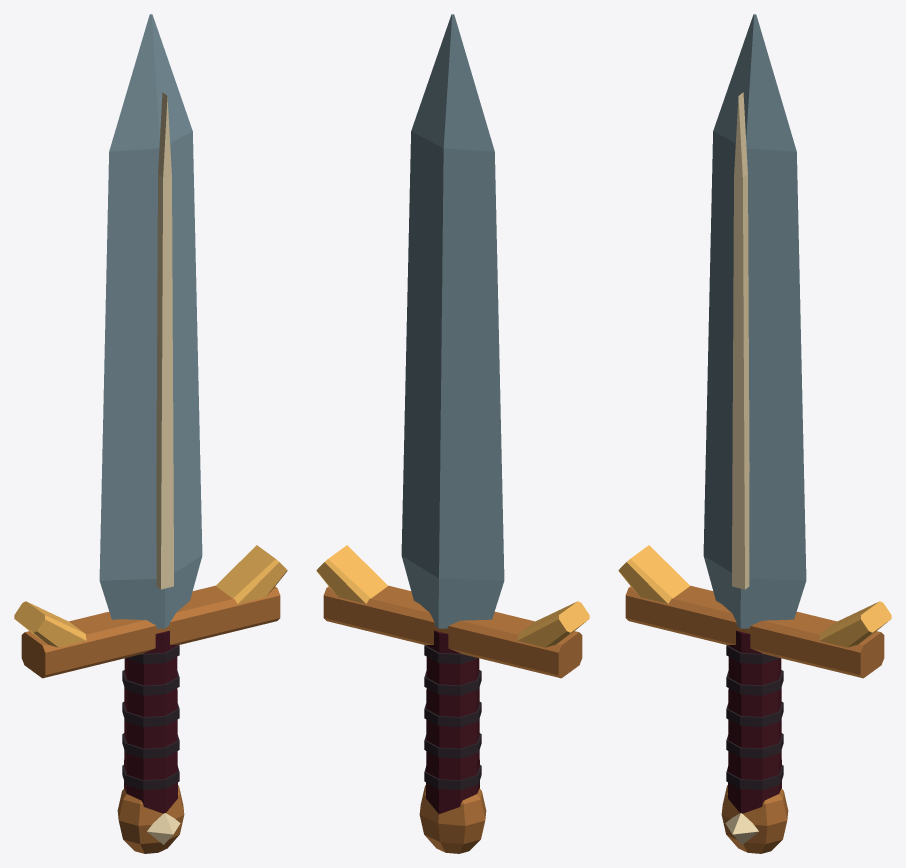
Rendered from prop-fighter-sword.glb.
3 views of the same model, side by side, from view 1: azimuth 30°, elevation 25°; view 2: azimuth 150°, elevation 25°; view 3: azimuth 330°, elevation 25° (orthographic).
Parts seen in each view (by area): view 1: prop-fighter-sword.001; view 2: prop-fighter-sword.001; view 3: prop-fighter-sword.001.
Part boxes in pixels (x1,y1,x2,y2): prop-fighter-sword.001: [14, 14, 287, 853]; prop-fighter-sword.001: [316, 14, 589, 853]; prop-fighter-sword.001: [618, 14, 891, 853].
Bounding box in the file's own units: 0.346 × 1.09 × 0.088.
1 material, 1 textured.
